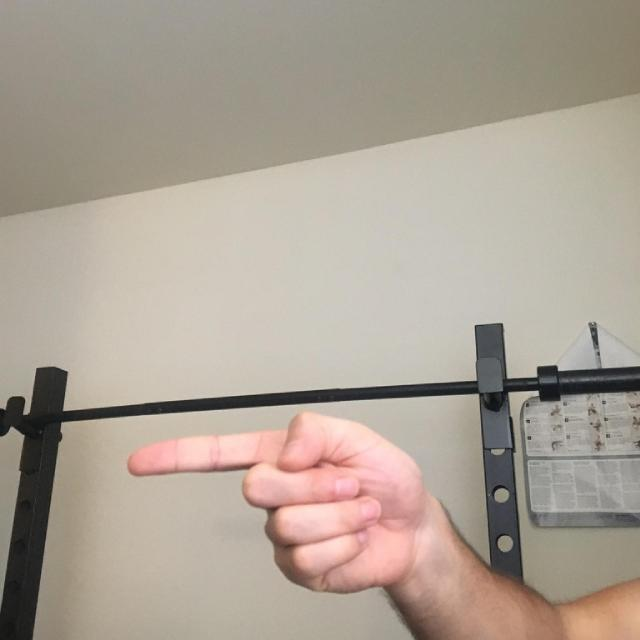G: (78, 353, 463, 640)
